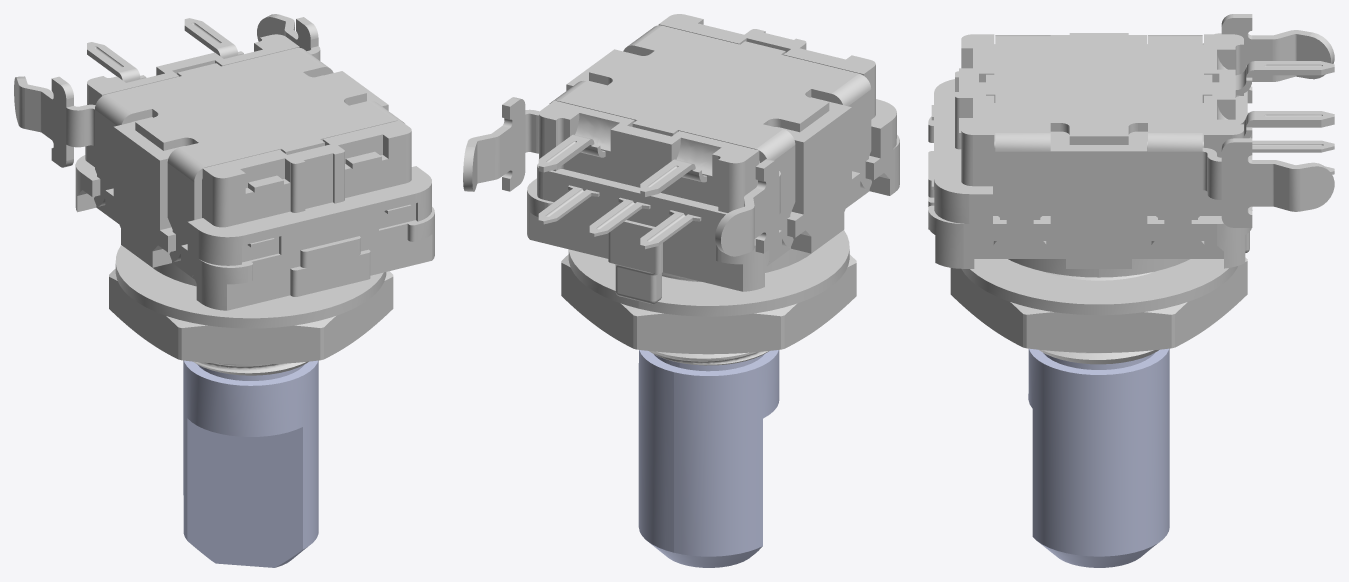
Rendered from encoder.glb.
3 views of the same model, side by side, from view 1: azimuth 30°, elevation 25°; view 2: azimuth 150°, elevation 25°; view 3: azimuth 270°, elevation 25° (orthographic). The views are drawn at different scales.
Visible parts, largest first — view 1: nodes[12], nodes[6], EC11B-Shaft-F_node, nodes[0], nodes[2], nodes[1], nodes[11], nodes[10]; view 2: nodes[12], nodes[6], EC11B-Shaft-F_node, nodes[0], nodes[2], nodes[1], nodes[11], nodes[10], nodes[7], nodes[8], nodes[9]; view 3: nodes[12], EC11B-Shaft-F_node, nodes[6], nodes[0], nodes[2], nodes[1], nodes[10], nodes[11], nodes[8].
Part boxes in pixels (x1=…): nodes[12]: x1=14, y1=14, x2=404, y2=276; nodes[6]: x1=85, y1=34, x2=431, y2=265; EC11B-Shaft-F_node: x1=183, y1=360, x2=318, y2=567; nodes[0]: x1=75, y1=155, x2=434, y2=375; nodes[2]: x1=109, y1=269, x2=393, y2=364; nodes[1]: x1=115, y1=245, x2=386, y2=328; nodes[11]: x1=184, y1=18, x2=243, y2=58; nodes[10]: x1=87, y1=42, x2=146, y2=82; nodes[12]: x1=463, y1=25, x2=871, y2=262; nodes[6]: x1=537, y1=14, x2=896, y2=241; EC11B-Shaft-F_node: x1=638, y1=350, x2=779, y2=567; nodes[0]: x1=527, y1=135, x2=899, y2=365; nodes[2]: x1=561, y1=254, x2=856, y2=354; nodes[1]: x1=568, y1=230, x2=849, y2=316; nodes[11]: x1=538, y1=134, x2=605, y2=172; nodes[10]: x1=640, y1=159, x2=706, y2=196; nodes[7]: x1=640, y1=210, x2=701, y2=249; nodes[8]: x1=589, y1=197, x2=650, y2=236; nodes[9]: x1=538, y1=185, x2=599, y2=224; nodes[12]: x1=986, y1=14, x2=1334, y2=251; EC11B-Shaft-F_node: x1=1028, y1=348, x2=1169, y2=567; nodes[6]: x1=931, y1=34, x2=1247, y2=223; nodes[0]: x1=928, y1=116, x2=1252, y2=364; nodes[2]: x1=950, y1=257, x2=1247, y2=352; nodes[1]: x1=961, y1=259, x2=1237, y2=315; nodes[10]: x1=1235, y1=61, x2=1334, y2=95; nodes[11]: x1=1240, y1=111, x2=1334, y2=138; nodes[8]: x1=1250, y1=137, x2=1334, y2=152.
Size of the model in its own units: 13.97 by 22 by 17.25.
